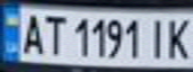1: (121, 16, 145, 60), (69, 15, 90, 57), (87, 16, 106, 57)
9: (106, 16, 127, 58)
A: (18, 10, 48, 56)
I: (145, 16, 169, 60)
K: (163, 15, 193, 61)
T: (39, 11, 69, 56)
